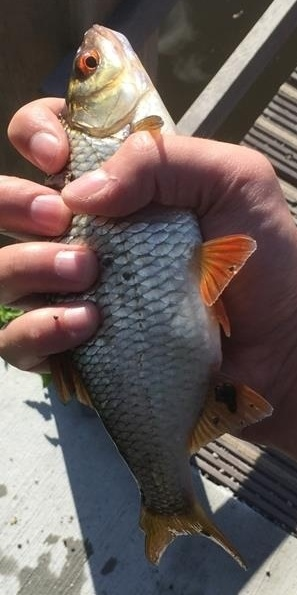Scardinius erythrophthalmus: (20, 20, 277, 575)
